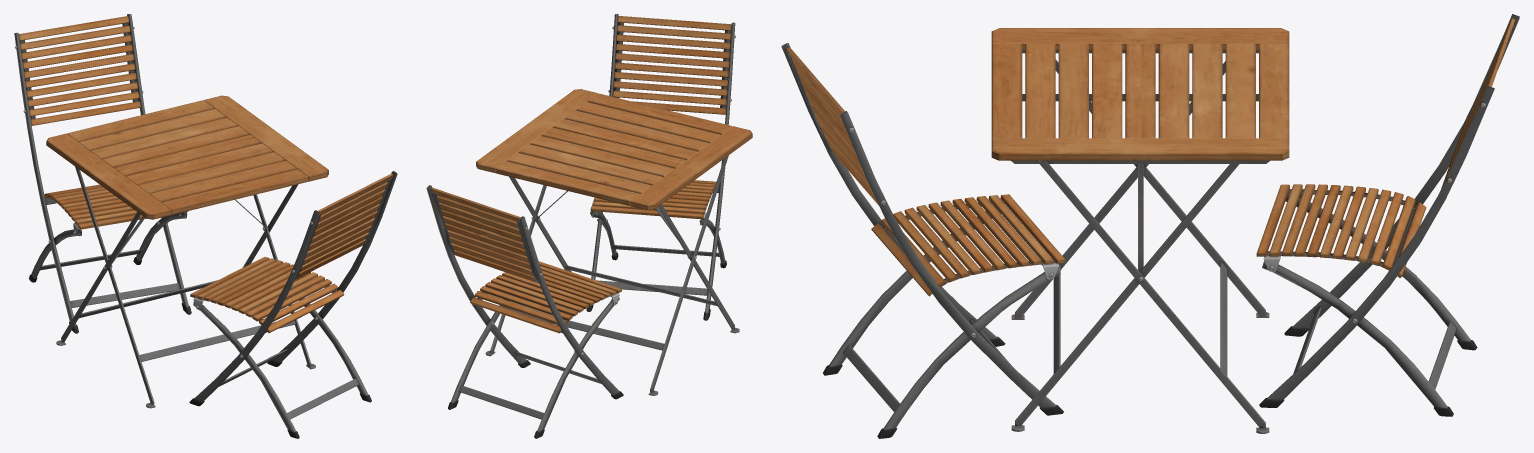
Rendered from outdoor_table_chair_set_01.glb.
The picture shows the model from 3 angles, left to right: view 1: azimuth 30°, elevation 25°; view 2: azimuth 150°, elevation 25°; view 3: azimuth 270°, elevation 25°; orthographic projection. The views are drawn at different scales.
Parts seen in each view (by area): view 1: outdoor_table_chair_set_01_chair_01, outdoor_table_chair_set_01_table; view 2: outdoor_table_chair_set_01_chair_01, outdoor_table_chair_set_01_table; view 3: outdoor_table_chair_set_01_table, outdoor_table_chair_set_01_chair_01.
Boxes of the visible parts, bbox=[...] form: outdoor_table_chair_set_01_chair_01: bbox=[14, 14, 397, 438]; outdoor_table_chair_set_01_table: bbox=[46, 95, 328, 408]; outdoor_table_chair_set_01_chair_01: bbox=[426, 14, 735, 438]; outdoor_table_chair_set_01_table: bbox=[476, 89, 752, 395]; outdoor_table_chair_set_01_table: bbox=[991, 28, 1289, 433]; outdoor_table_chair_set_01_chair_01: bbox=[781, 14, 1519, 438].
Size of the model in its own units: 0.7417 by 0.8579 by 1.72.
Materials: 2 (2 with a texture image).
